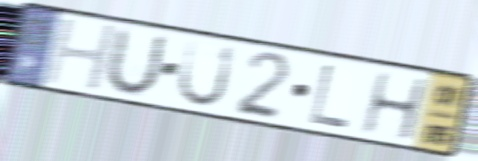2: (234, 49, 294, 123)
H: (41, 17, 122, 93), (357, 70, 430, 144)
L: (306, 61, 353, 132)
U: (101, 24, 171, 99), (174, 37, 239, 109)
